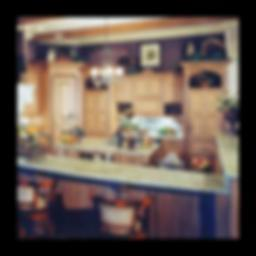Matera: (217, 93, 238, 135)
